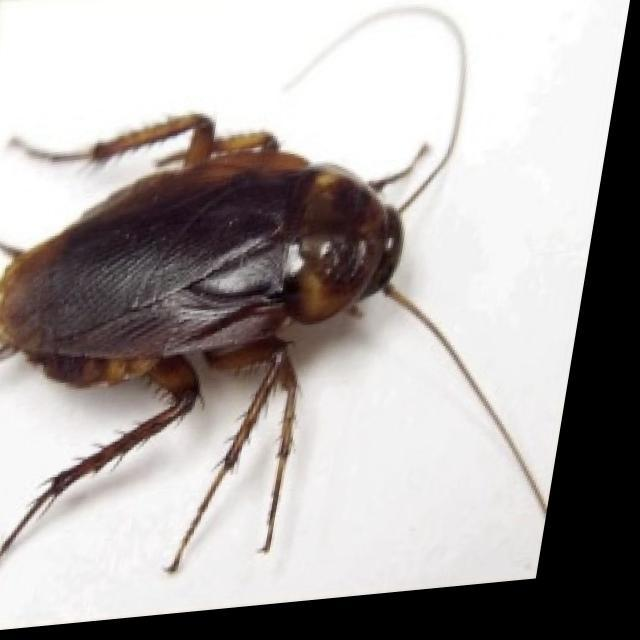cockroach: (1, 4, 549, 578)
